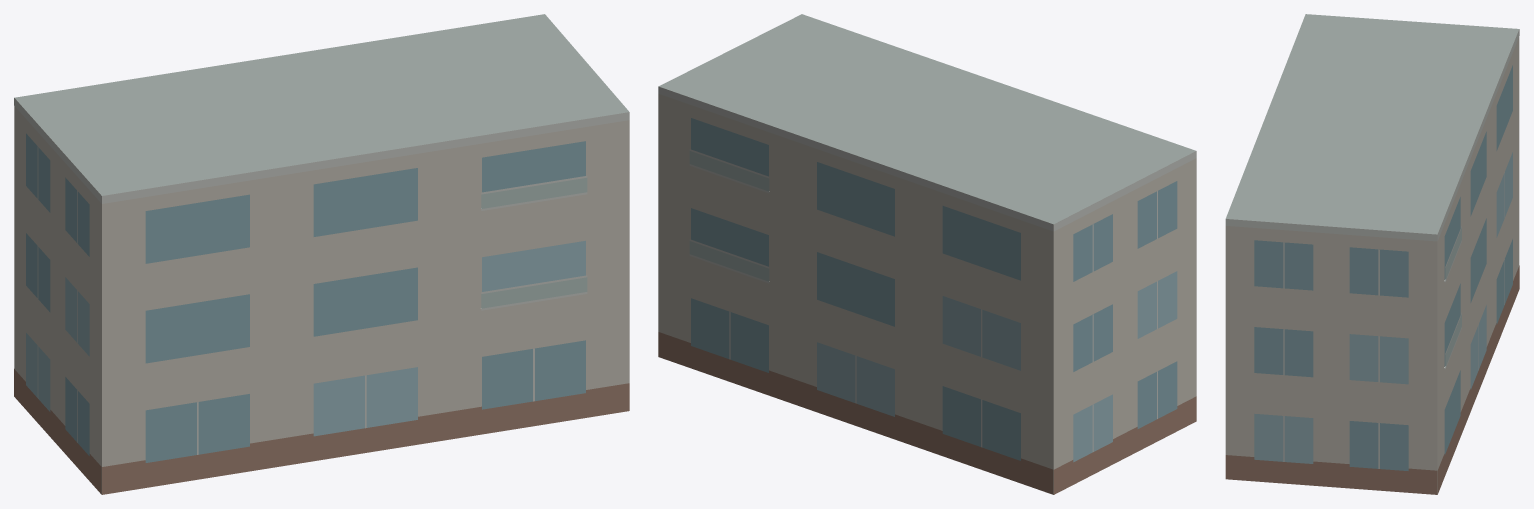
File: survey-upis-32641315.glb
3 views of the same model, side by side, from view 1: azimuth 30°, elevation 25°; view 2: azimuth 150°, elevation 25°; view 3: azimuth 270°, elevation 25° (orthographic). The views are drawn at different scales.
Parts seen in each view (by area): view 1: survey-upis-32641315.tmp; view 2: survey-upis-32641315.tmp; view 3: survey-upis-32641315.tmp.
Boxes of the visible parts, x1=… form: survey-upis-32641315.tmp: x1=14, y1=14, x2=629, y2=494; survey-upis-32641315.tmp: x1=658, y1=14, x2=1196, y2=494; survey-upis-32641315.tmp: x1=1225, y1=14, x2=1519, y2=494.
Size of the model in its own units: 16.63 by 9.15 by 9.37.
